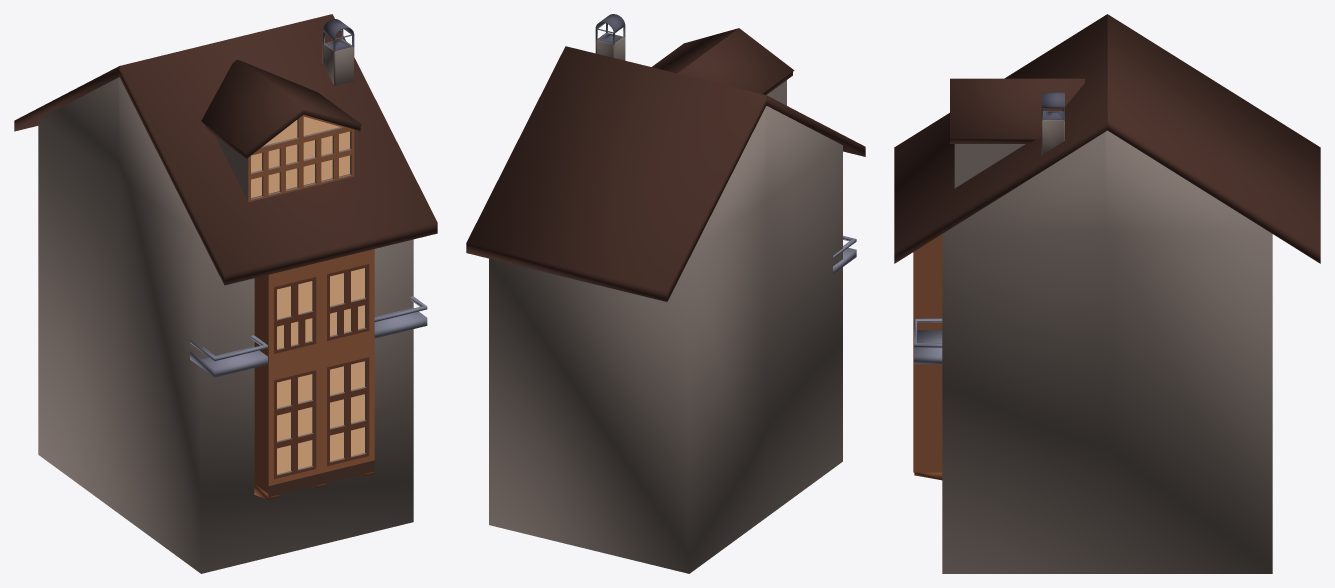
File: SkiHotels.fbx
3 renders of one model, left to right at view 1: azimuth 30°, elevation 25°; view 2: azimuth 150°, elevation 25°; view 3: azimuth 270°, elevation 25°, orthographic. The views are drawn at different scales.
Parts seen in each view (by area): view 1: SkiResort; view 2: SkiResort; view 3: SkiResort.
Part boxes in pixels (box(x1,y1,x2,y2)): SkiResort: box(14, 14, 437, 573); SkiResort: box(466, 14, 865, 573); SkiResort: box(894, 14, 1320, 573).
Bounding box in the file's own units: 688 × 837 × 403.
